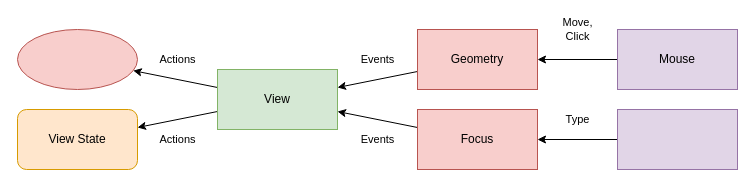
This 755x188 diagram has some shape labels left out. The centre of each missing label's shape, as x and y in pixels:
"Keyboard" goes at (x=677, y=139).
"Model" goes at (x=77, y=59).
